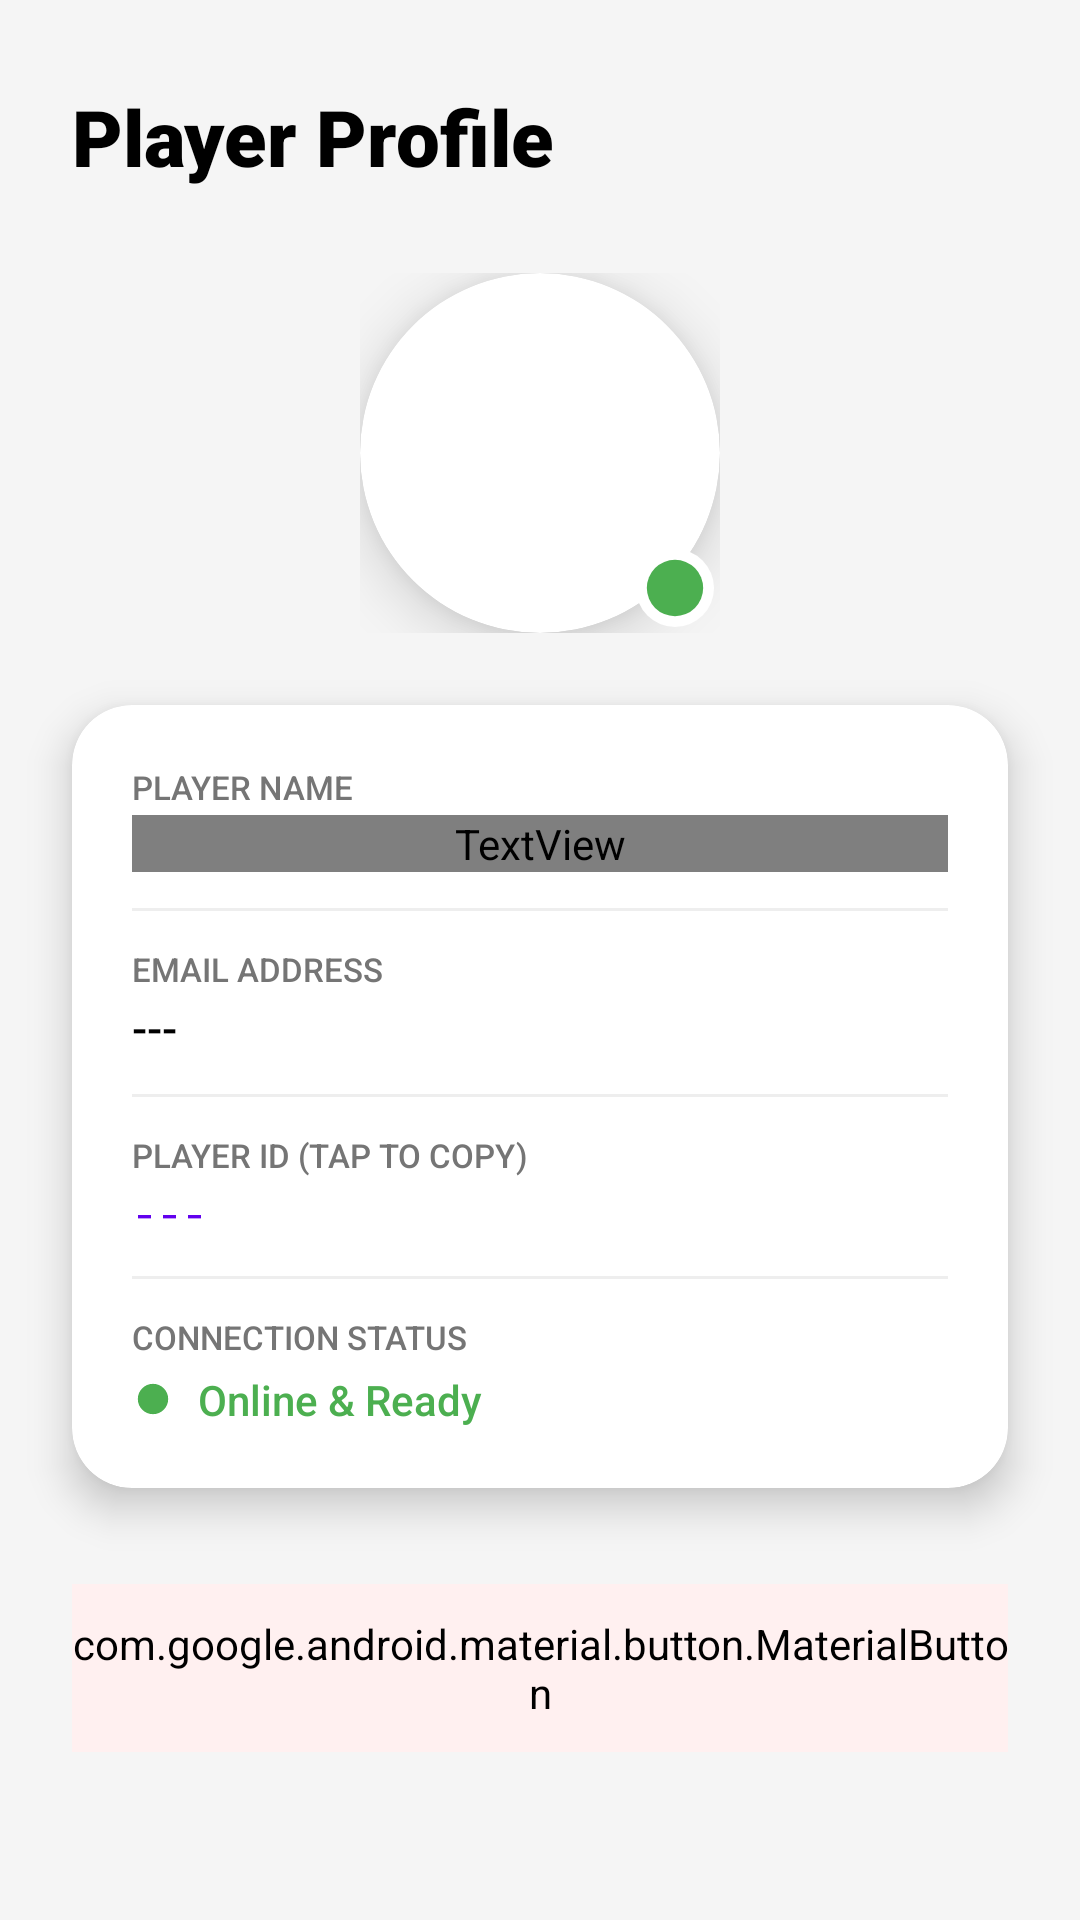

Icon bounding boxes for this 1080×1920 phone screenshot, format {"x1": x1, "y1": y1, "x2": x2, "y2": y2}:
online badge: {"x1": 646, "y1": 559, "x2": 703, "y2": 617}, {"x1": 138, "y1": 1384, "x2": 168, "y2": 1414}
